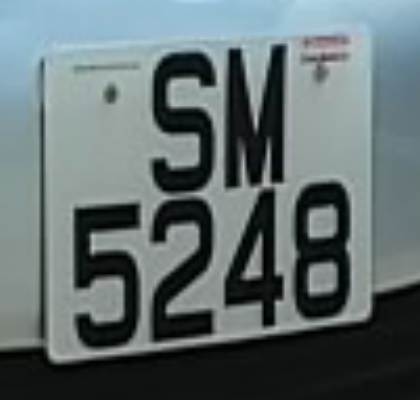2: (144, 193, 227, 350)
4: (220, 184, 291, 338)
5: (66, 189, 147, 357)
8: (286, 173, 362, 324)
M: (217, 34, 297, 195)
S: (133, 45, 225, 201)
